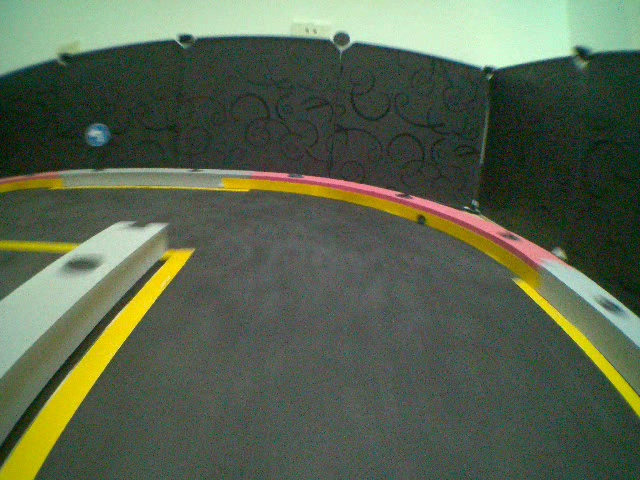turn: (84, 122, 111, 148)
